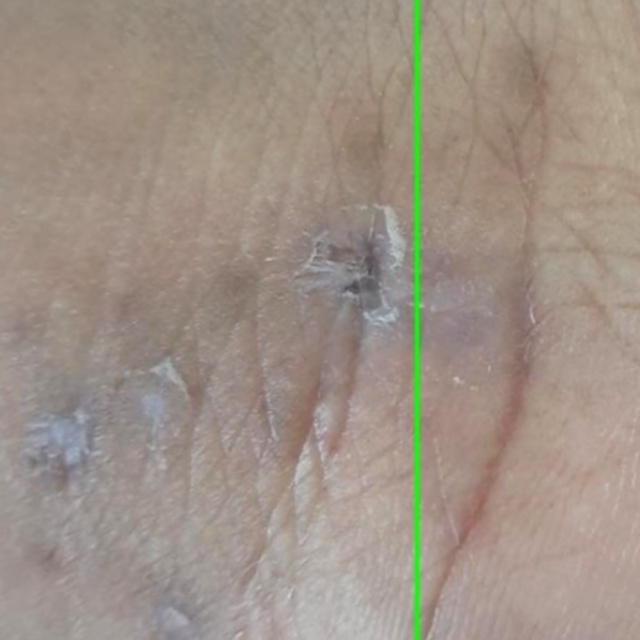Scabies: (416, 0, 639, 639)
